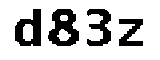3: (83, 6, 113, 49)
8: (49, 6, 82, 50)
d: (12, 7, 44, 48)
z: (116, 15, 149, 51)
